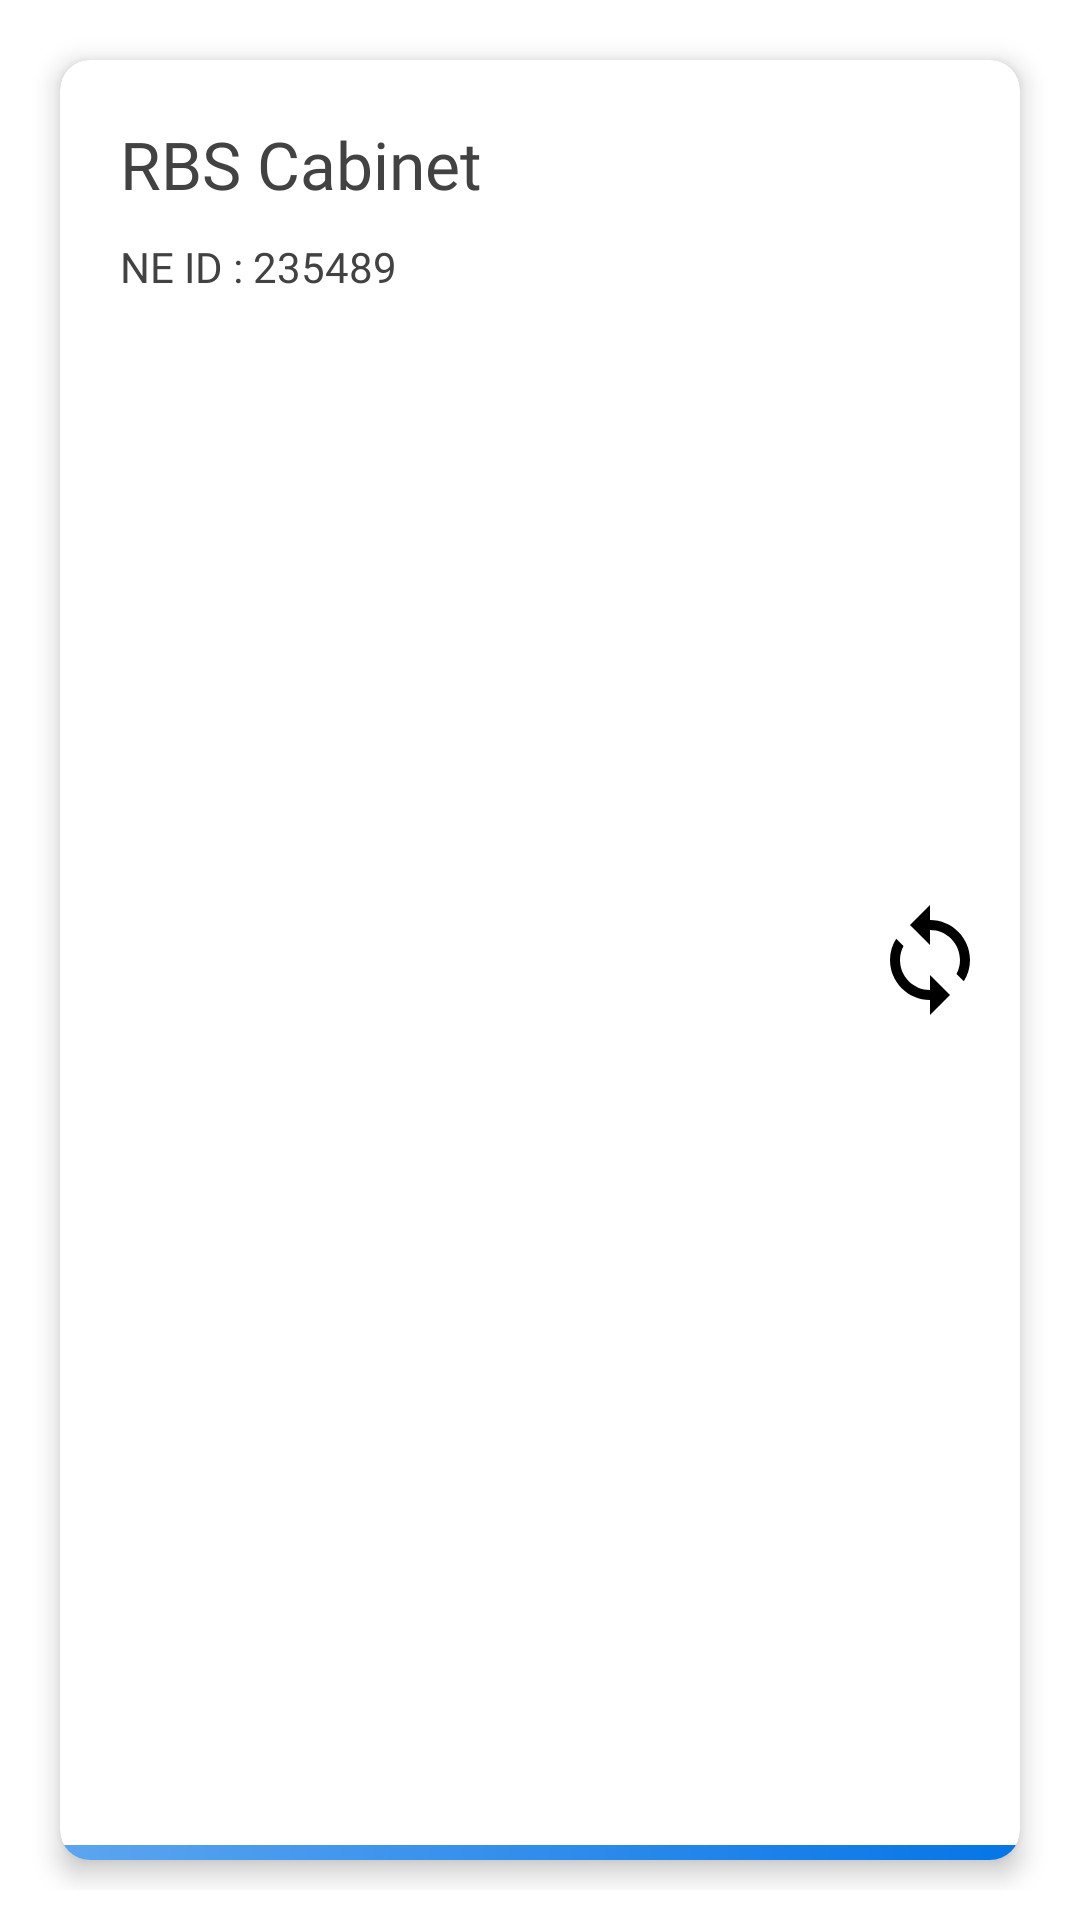

Where to tap for icons on this 1080 × 1920 app screen, as (x,y):
sync: (930,960)
